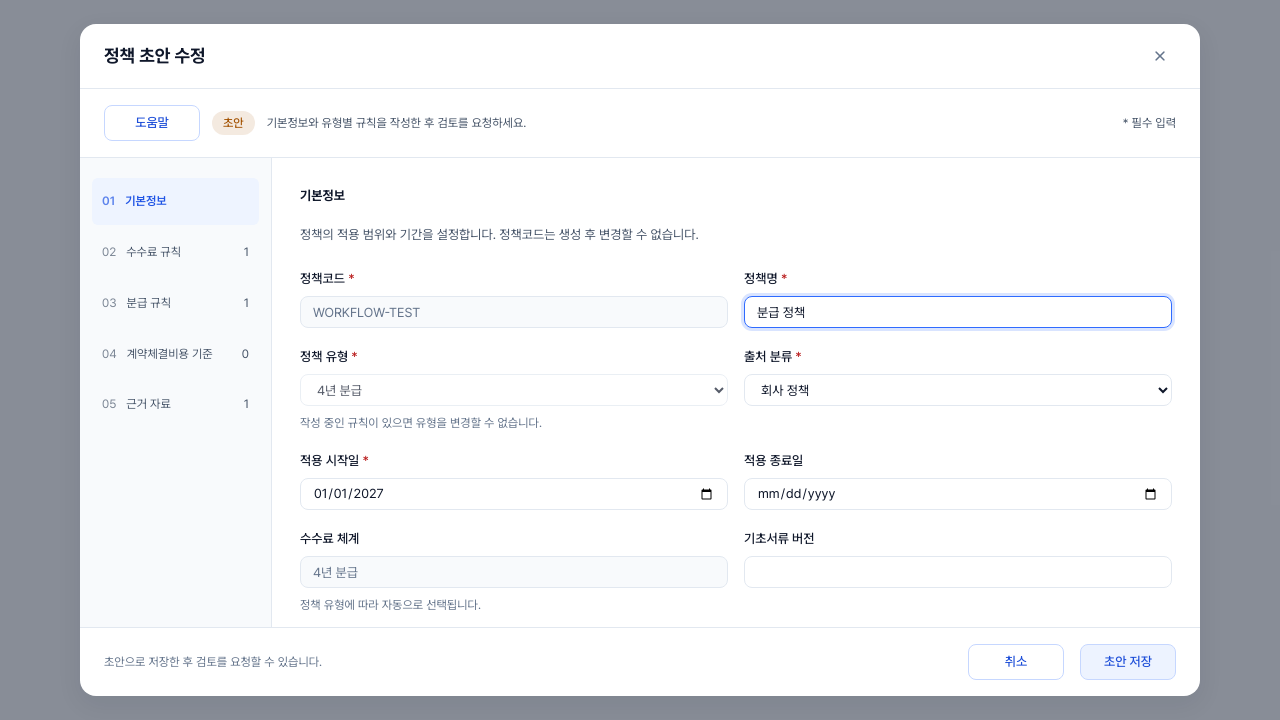
production policy workflow › keeps input and concurrency token after a 409 while querying the latest header
Replace the text in the field labelled "정책명 *" with "내 입력 보존": (958, 312) x1=744 y1=296 x2=1172 y2=328
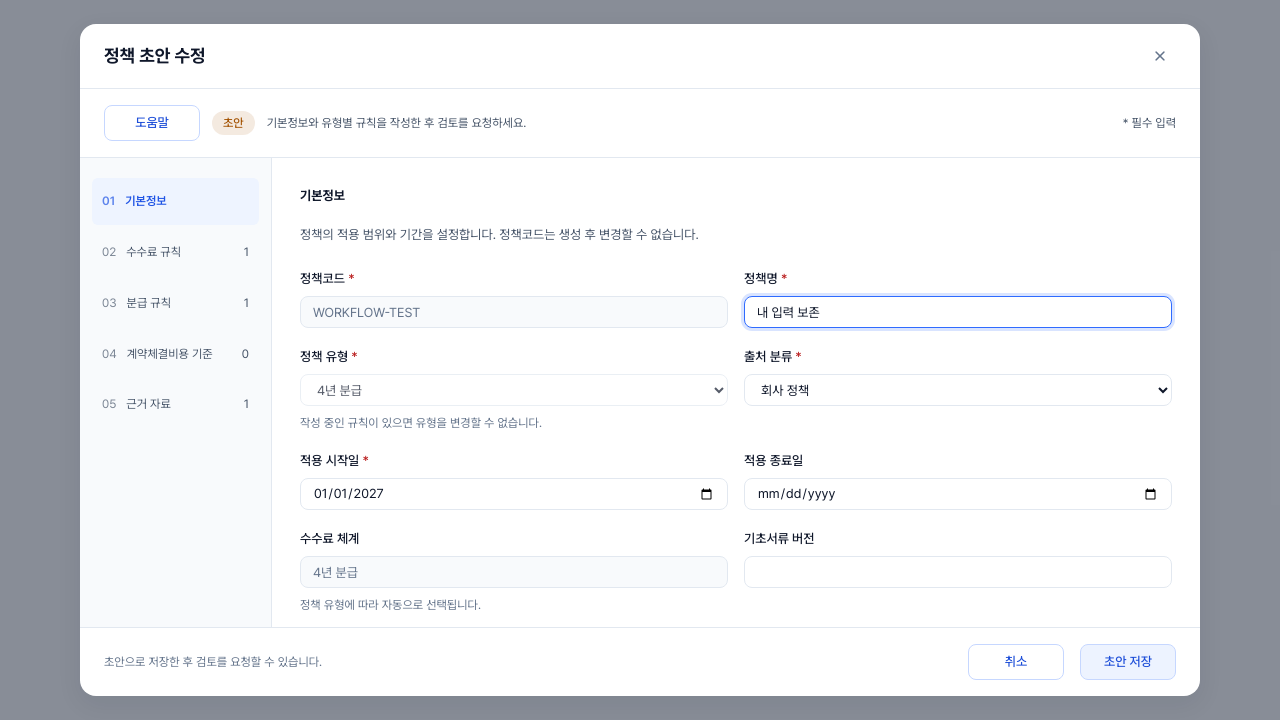
Click the button "초안 저장": (1128, 662) x1=1080 y1=644 x2=1176 y2=680
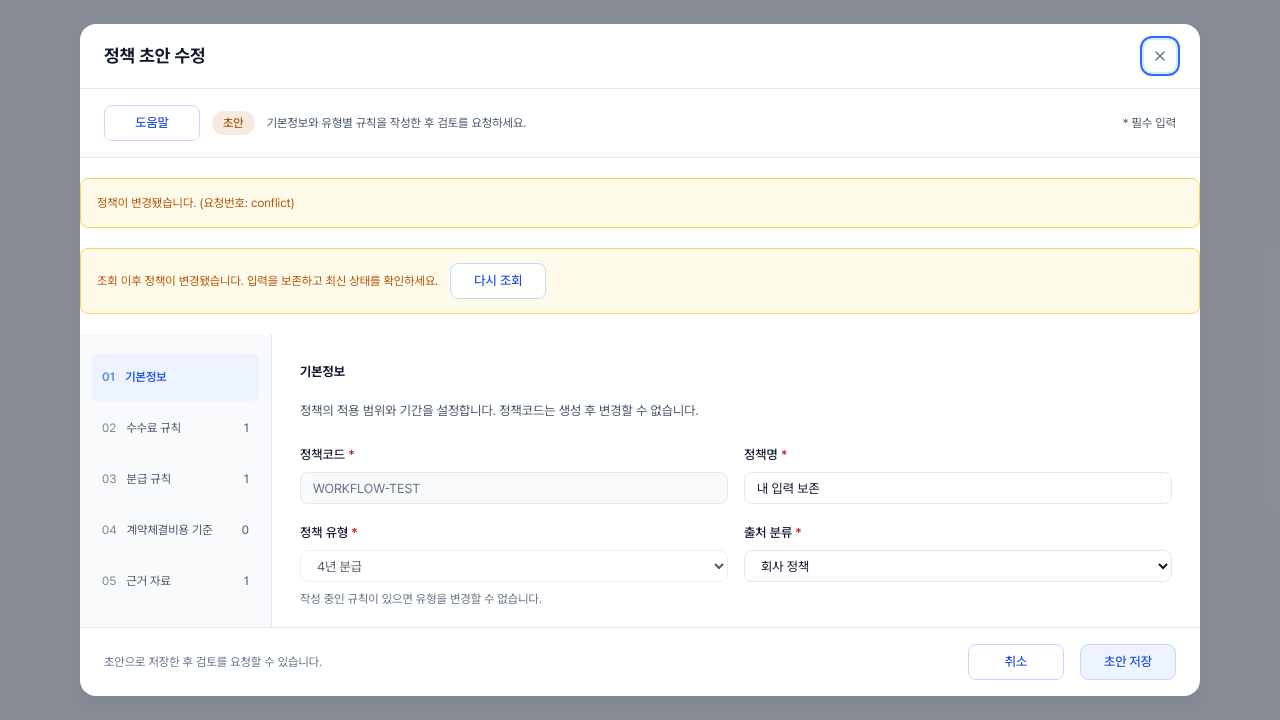
Click the button "다시 조회": (498, 281) x1=450 y1=263 x2=546 y2=299
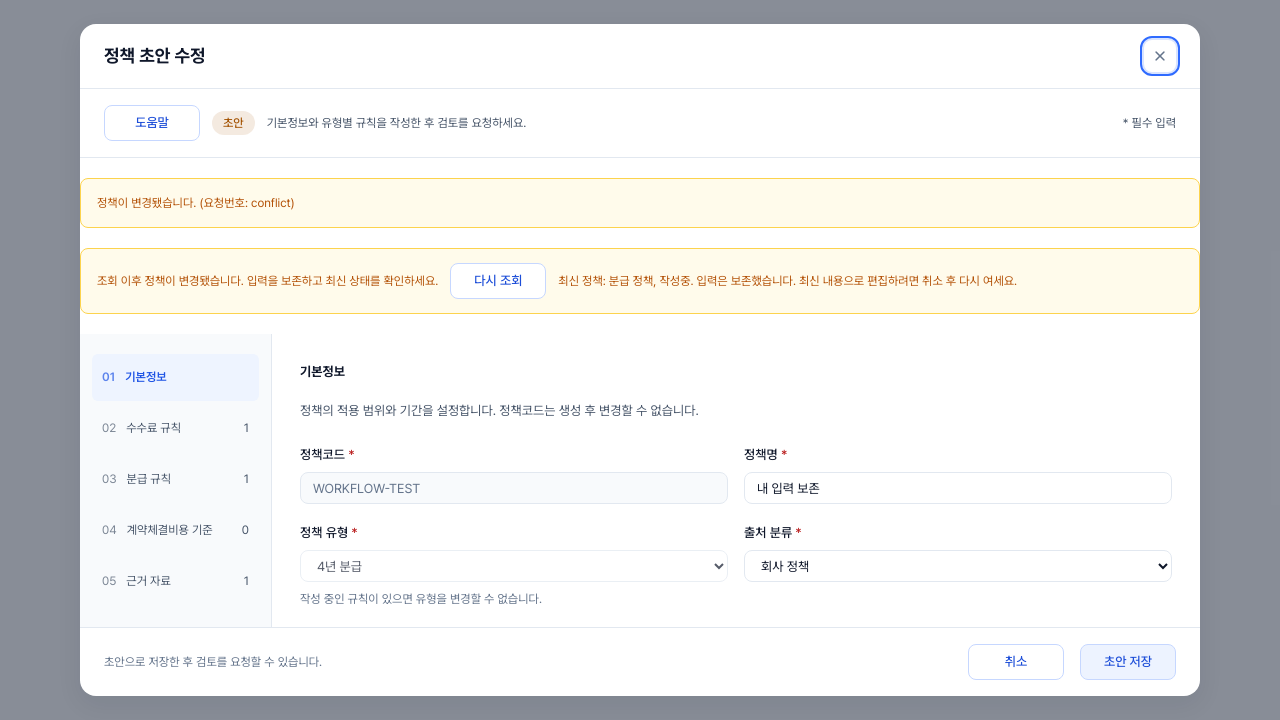
Check: the text "최신 정책: 분급 정책, 작성중. 입력은 보존했습니다. 최신 내용으로 편집하려면 취소 후 다시 여세요." is shown, box x1=558 y1=271 x2=1017 y2=292
